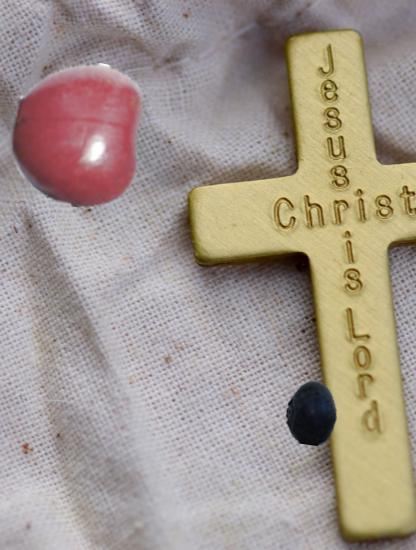Blueberry: (280, 381, 344, 445)
Cherry: (5, 60, 151, 206)
